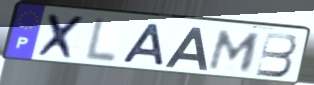A: (163, 25, 209, 72), (120, 22, 166, 68)
B: (253, 31, 299, 79)
L: (81, 16, 120, 66)
M: (205, 29, 264, 74)
X: (34, 12, 89, 62)
